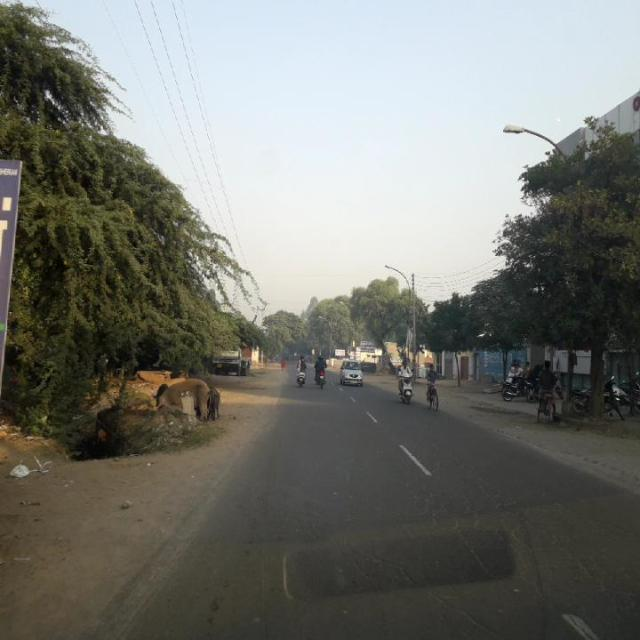D20: (353, 448, 632, 636)
